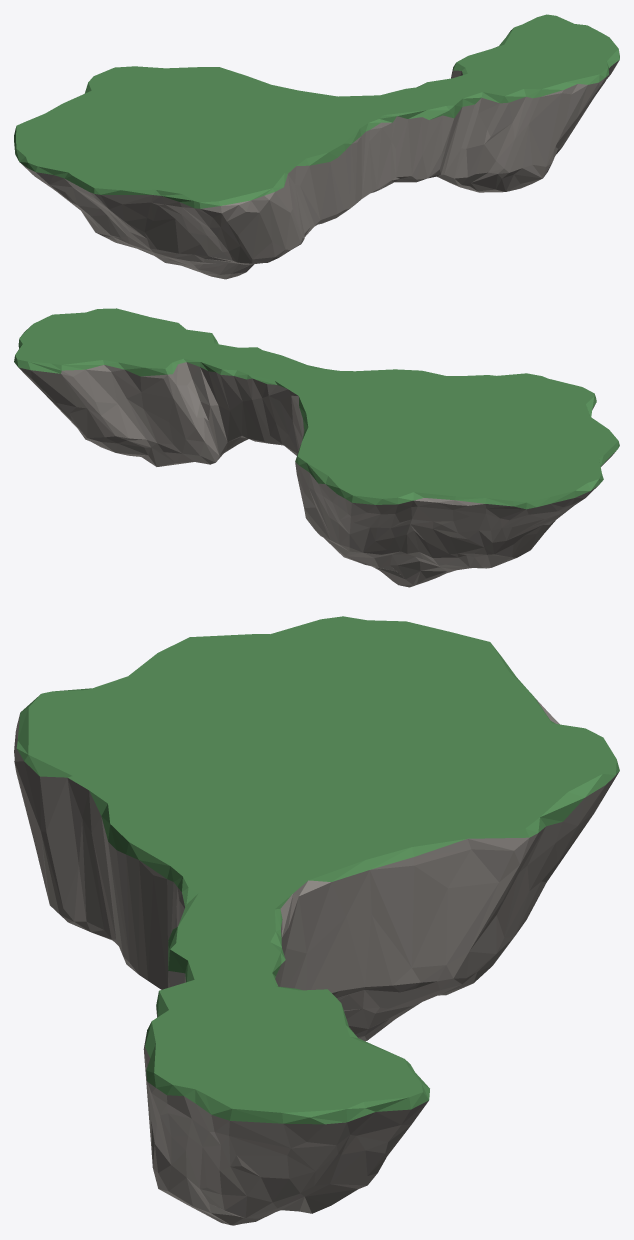
The model's file is Level2Blockout.fbx.
The picture shows the model from 3 angles, top to bottom: view 1: azimuth 30°, elevation 25°; view 2: azimuth 150°, elevation 25°; view 3: azimuth 270°, elevation 25°; orthographic projection. The views are drawn at different scales.
Parts seen in each view (by area): view 1: Level2Blockout; view 2: Level2Blockout; view 3: Level2Blockout.
Part boxes in pixels (x1,y1,x2,y2): Level2Blockout: [14, 14, 619, 279]; Level2Blockout: [14, 308, 619, 587]; Level2Blockout: [14, 616, 619, 1225].
Size of the model in its own units: 24301 by 6090 by 12498.
